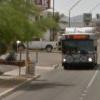Bus: (55, 30, 98, 71)
